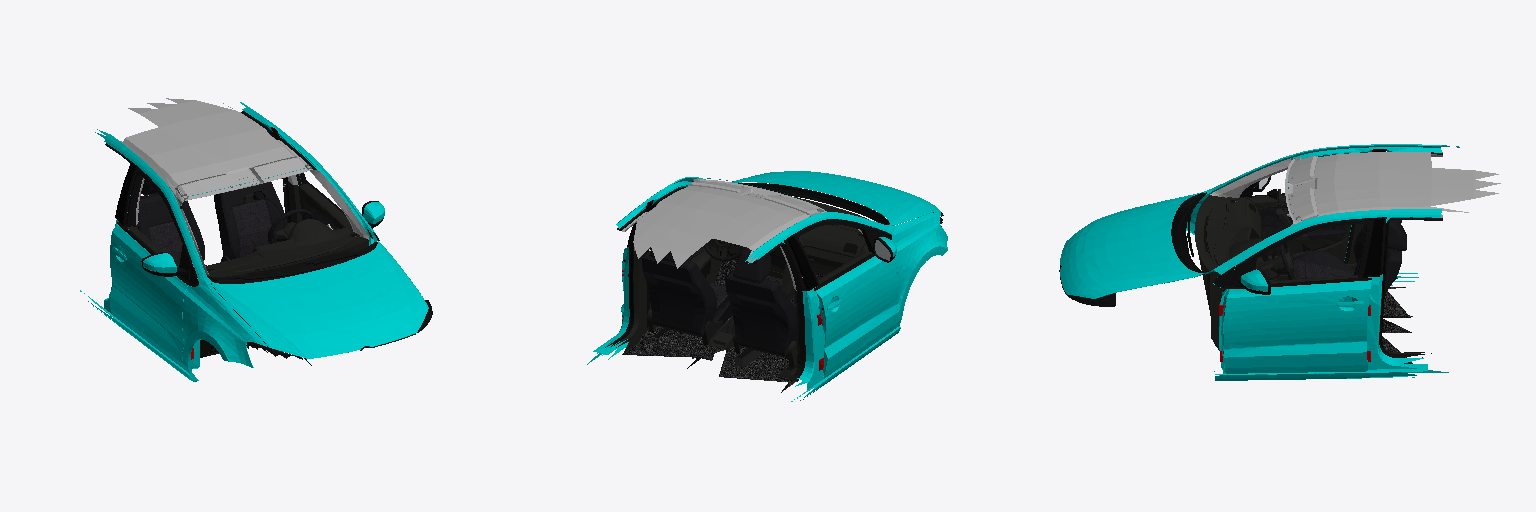
3 renders of one model, left to right at view 1: azimuth 30°, elevation 25°; view 2: azimuth 150°, elevation 25°; view 3: azimuth 270°, elevation 25°, orthographic.
Parts seen in each view (by area): view 1: Mesh91 Group1 Model, Mesh1 Group2 Group1 Model, Mesh59 DPP_lak1 Group1 Model, Mesh15 Group4 Group1 Model, Mesh93 Group1 Model, Mesh94 Group1 Model, Mesh18 DLP_tex1 Group1 Model, Mesh65 DPP_gum1 Group1 Model, Mesh124 Group1 Model; view 2: Mesh91 Group1 Model, Mesh59 DPP_lak1 Group1 Model, Mesh94 Group1 Model, Mesh93 Group1 Model, Mesh1 Group2 Group1 Model, Mesh15 Group4 Group1 Model, Mesh103 Group1 Model, Mesh100 Group1 Model, Mesh101 Group1 Model, Mesh65 DPP_gum1 Group1 Model, Mesh124 Group1 Model, Mesh92 Group1 Model; view 3: Mesh91 Group1 Model, Mesh85 DPP_lak2 Group1 Model, Mesh1 Group2 Group1 Model, Mesh117 Group1 Model, Mesh43 DPP_tex1 Group1 Model, Mesh95 Group1 Model, Mesh28 DLP_gum1 Group1 Model, Mesh44 DPP_tex1 Group1 Model, Mesh100 Group1 Model, Mesh54 Vol_tex1 Group1 Model.
Part boxes in pixels (x1,y1,x2,y2): Mesh91 Group1 Model: (95, 98, 428, 373); Mesh1 Group2 Group1 Model: (211, 241, 428, 358); Mesh59 DPP_lak1 Group1 Model: (109, 224, 187, 369); Mesh15 Group4 Group1 Model: (182, 273, 266, 373); Mesh93 Group1 Model: (214, 182, 287, 259); Mesh94 Group1 Model: (138, 193, 204, 264); Mesh18 DLP_tex1 Group1 Model: (299, 184, 352, 230); Mesh65 DPP_gum1 Group1 Model: (117, 167, 190, 284); Mesh124 Group1 Model: (84, 293, 198, 381); Mesh91 Group1 Model: (587, 177, 897, 392); Mesh59 DPP_lak1 Group1 Model: (815, 256, 897, 378); Mesh94 Group1 Model: (725, 271, 797, 367); Mesh93 Group1 Model: (641, 251, 716, 336); Mesh1 Group2 Group1 Model: (732, 171, 940, 224); Mesh15 Group4 Group1 Model: (885, 212, 947, 328); Mesh103 Group1 Model: (733, 247, 770, 283); Mesh100 Group1 Model: (738, 183, 889, 224); Mesh101 Group1 Model: (804, 247, 852, 272); Mesh65 DPP_gum1 Group1 Model: (793, 220, 878, 290); Mesh124 Group1 Model: (794, 326, 900, 400); Mesh92 Group1 Model: (663, 283, 732, 336); Mesh91 Group1 Model: (1103, 144, 1500, 374); Mesh85 DPP_lak2 Group1 Model: (1223, 280, 1371, 373); Mesh1 Group2 Group1 Model: (1060, 193, 1201, 298); Mesh117 Group1 Model: (1215, 364, 1427, 380); Mesh43 DPP_tex1 Group1 Model: (1258, 205, 1346, 250); Mesh95 Group1 Model: (1294, 250, 1354, 278); Mesh28 DLP_gum1 Group1 Model: (1230, 218, 1373, 288); Mesh44 DPP_tex1 Group1 Model: (1240, 194, 1350, 275); Mesh100 Group1 Model: (1171, 193, 1203, 274); Mesh54 Vol_tex1 Group1 Model: (1273, 243, 1298, 279).
Size of the model in its own units: 5.02 by 3.2 by 8.06.
15 materials, 2 textured.